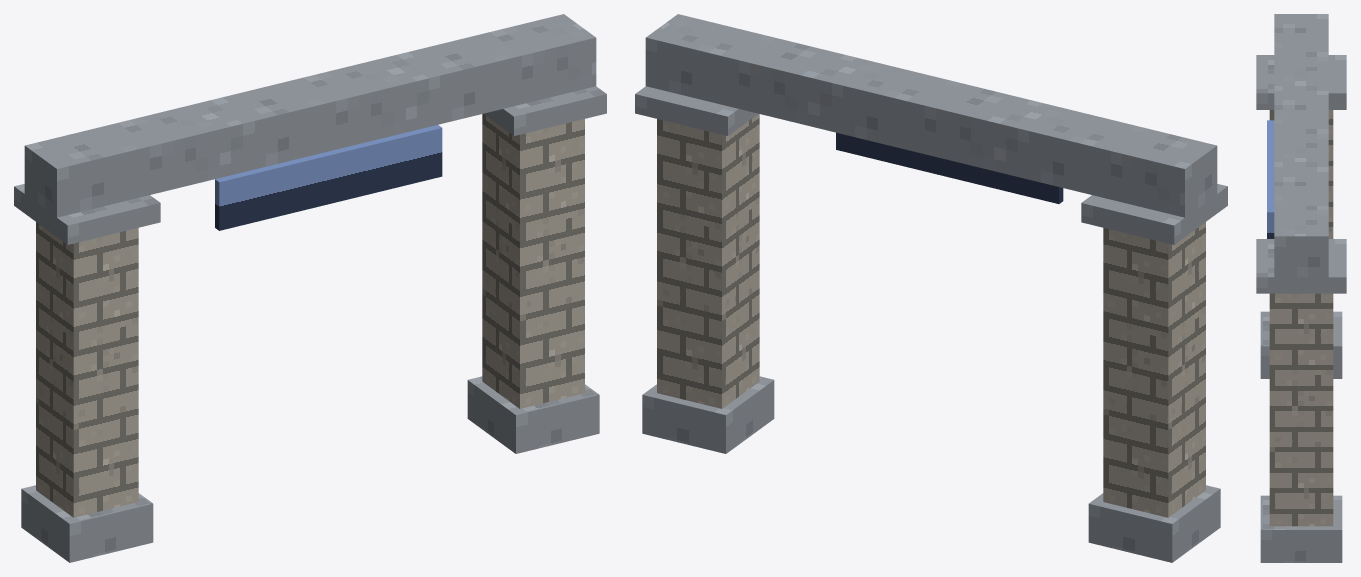
Rendered from gate.glb.
3 views of the same model, side by side, from view 1: azimuth 30°, elevation 25°; view 2: azimuth 150°, elevation 25°; view 3: azimuth 270°, elevation 25° (orthographic). The views are drawn at different scales.
Parts seen in each view (by area): view 1: gate; view 2: gate; view 3: gate.
Boxes of the visible parts, x1,y1,x2,y2 form: gate: (14,14,606,562); gate: (635,14,1227,562); gate: (1256,14,1346,562).
Bounding box in the file's own units: 5.8 × 4 × 1.
3 materials, 3 textured.
